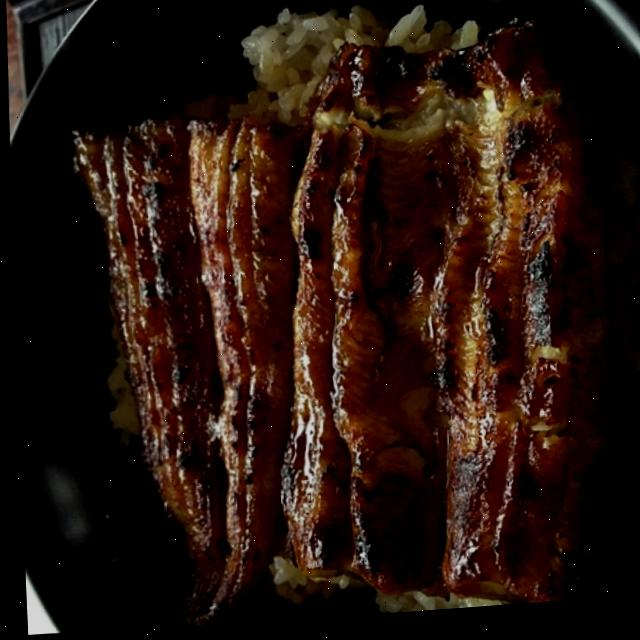熟制海鲜: (25, 0, 640, 639)
